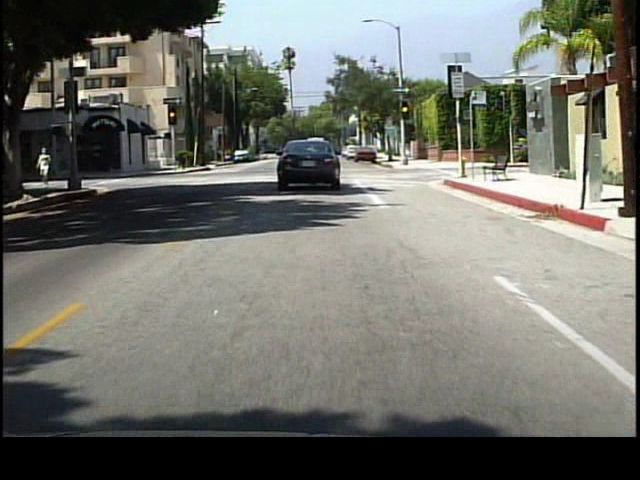person: (40, 145, 59, 190)
